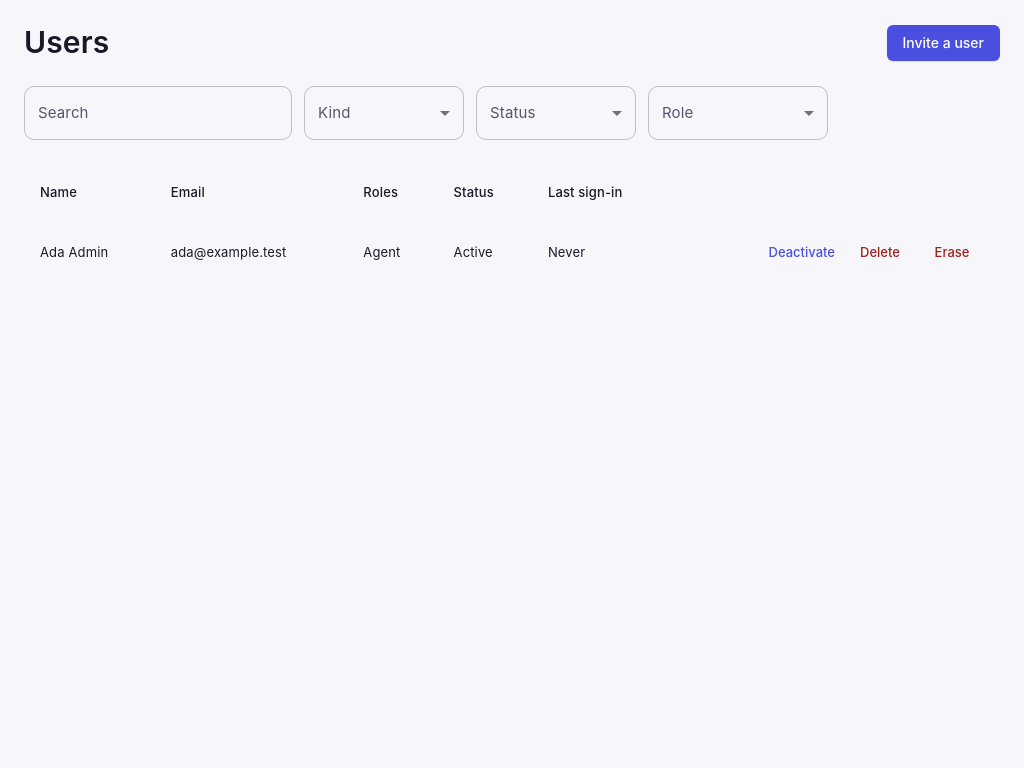
it: UsersPage › keeps the confirmation open and shows the reason when deleting is refused
Click the button "Delete" at point(880, 252), box [848, 237, 912, 268]
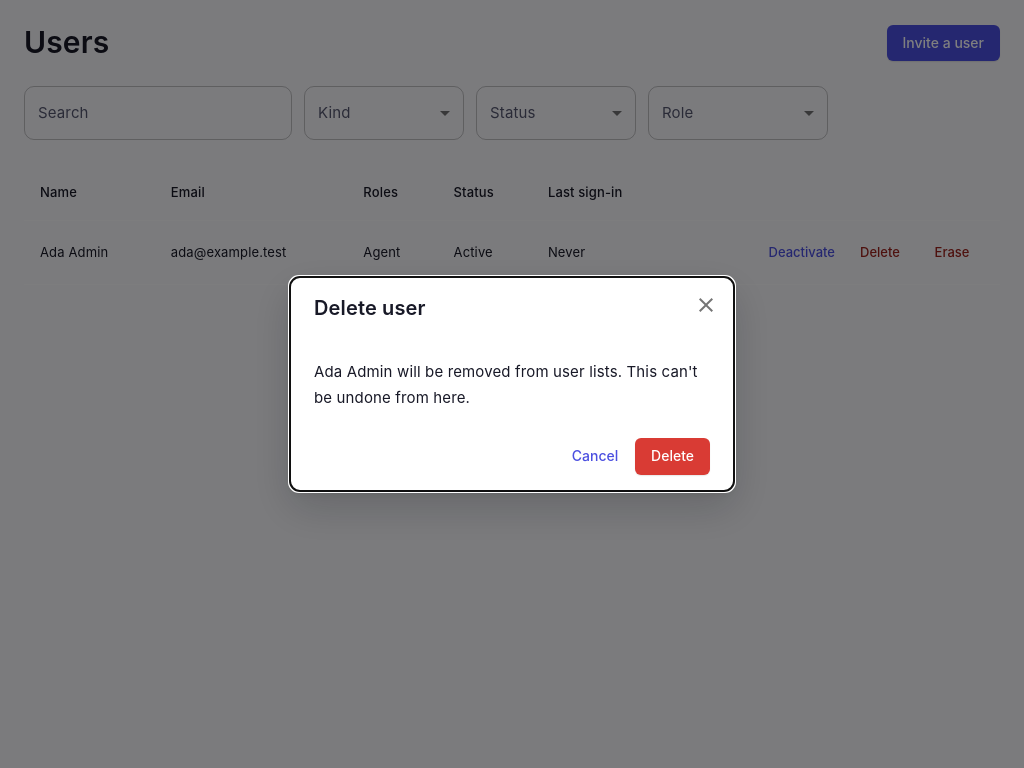
Click the button "Delete" at point(673, 457), box [635, 438, 710, 475]
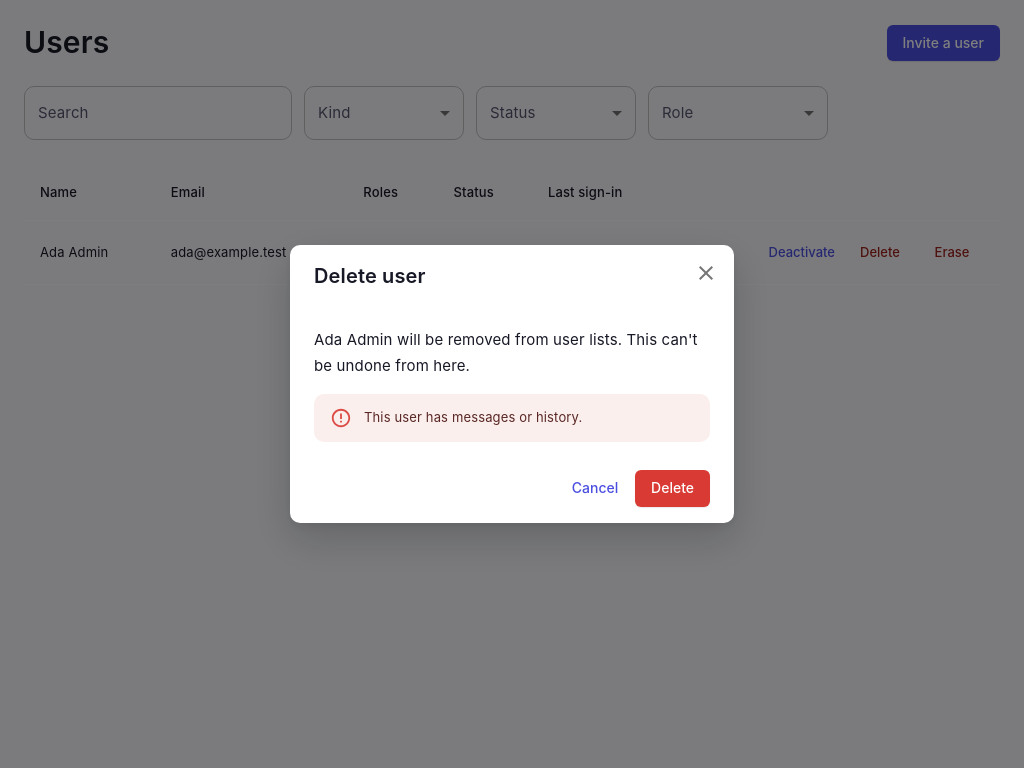
Now the dialog "Delete user" is shown, box [290, 245, 734, 523]
Now the text "This user has messages or history." is shown, box [364, 409, 582, 425]
